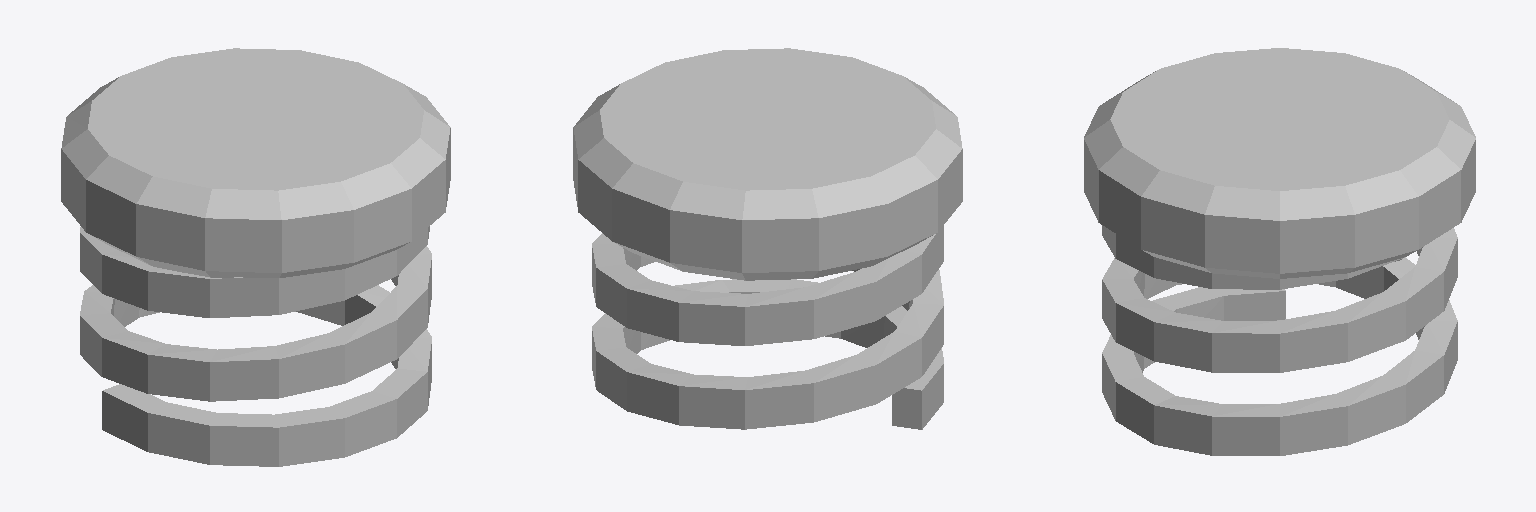
The model's file is bouncer.obj.
3 views of the same model, side by side, from view 1: azimuth 30°, elevation 25°; view 2: azimuth 150°, elevation 25°; view 3: azimuth 270°, elevation 25° (orthographic).
Parts seen in each view (by area): view 1: bouncer; view 2: bouncer; view 3: bouncer.
Part boxes in pixels (x1,y1,x2,y2): bouncer: (61,48,450,466); bouncer: (573,48,962,429); bouncer: (1084,48,1475,455).
Size of the model in its own units: 0.8831 by 0.6775 by 0.8831.